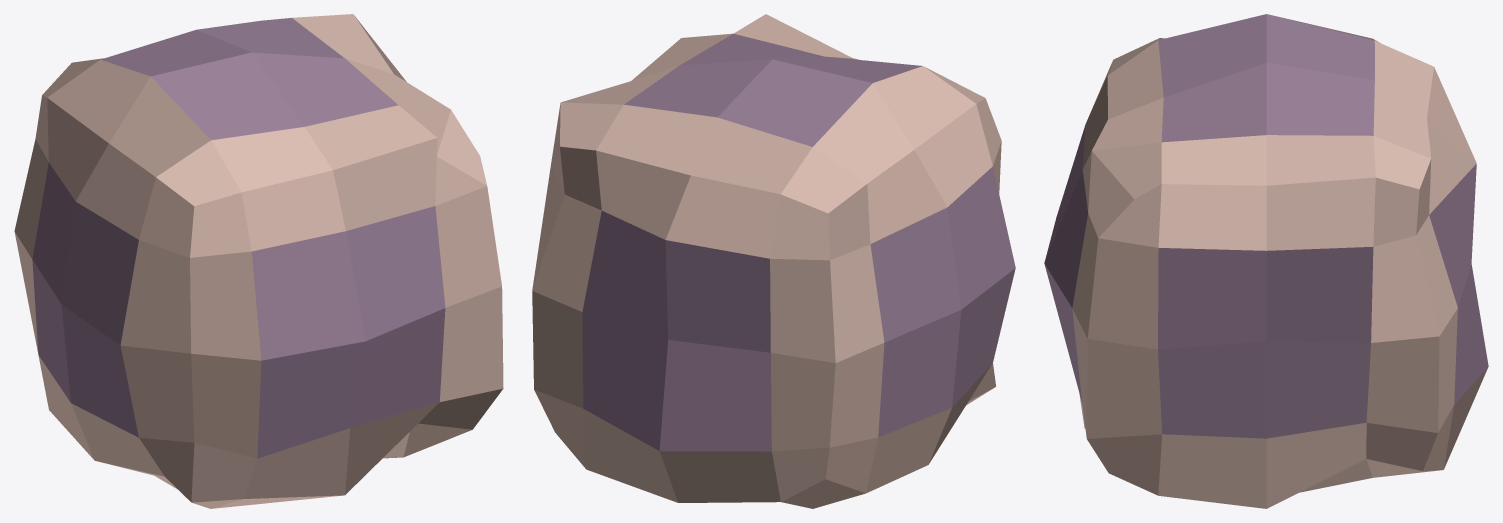
File: blockAttach.obj
3 views of the same model, side by side, from view 1: azimuth 30°, elevation 25°; view 2: azimuth 150°, elevation 25°; view 3: azimuth 270°, elevation 25° (orthographic). The views are drawn at different scales.
Visible parts, largest first — view 1: 立方体.004; view 2: 立方体.004; view 3: 立方体.004.
Part boxes in pixels (left/top/right/bottom): 立方体.004: left=14, top=14, right=503, bottom=508; 立方体.004: left=532, top=14, right=1015, bottom=508; 立方体.004: left=1044, top=14, right=1488, bottom=508.
Bounding box in the file's own units: 0.664 × 0.7048 × 0.7055.
Materials: 1 (1 with a texture image).
